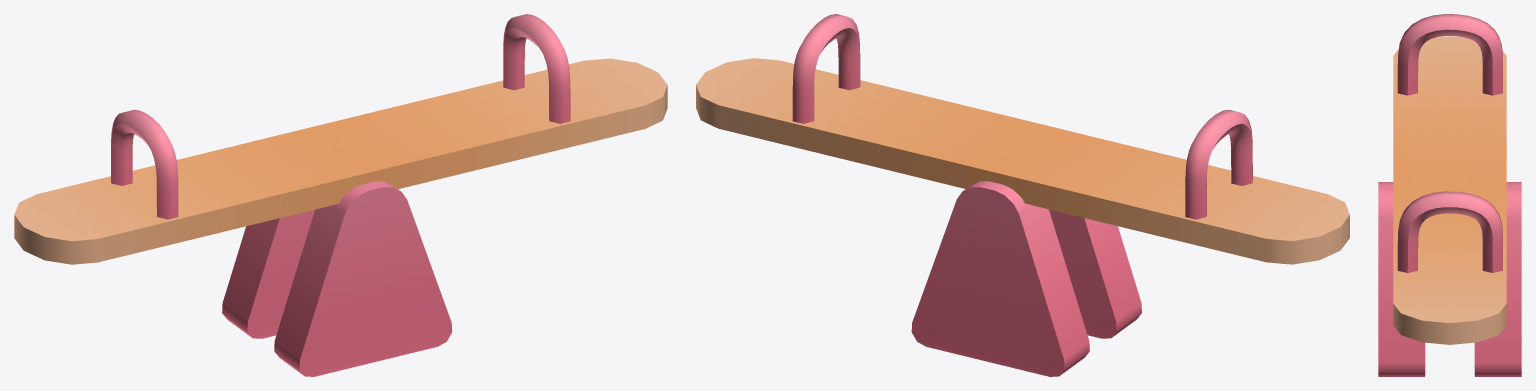
The model's file is Seesaw_Pink.fbx.
The picture shows the model from 3 angles, left to right: view 1: azimuth 30°, elevation 25°; view 2: azimuth 150°, elevation 25°; view 3: azimuth 270°, elevation 25°; orthographic projection. The views are drawn at different scales.
Visible parts, largest first — view 1: Seesaw_04, Seesaw_03; view 2: Seesaw_04, Seesaw_03; view 3: Seesaw_04, Seesaw_03.
Boxes of the visible parts, <box> form: Seesaw_04: <box>14,14,667,264</box>; Seesaw_03: <box>222,181,452,376</box>; Seesaw_04: <box>696,14,1349,264</box>; Seesaw_03: <box>911,181,1141,376</box>; Seesaw_04: <box>1393,14,1506,344</box>; Seesaw_03: <box>1378,182,1521,376</box>.
Size of the model in its own units: 311 by 123 by 65.86.
